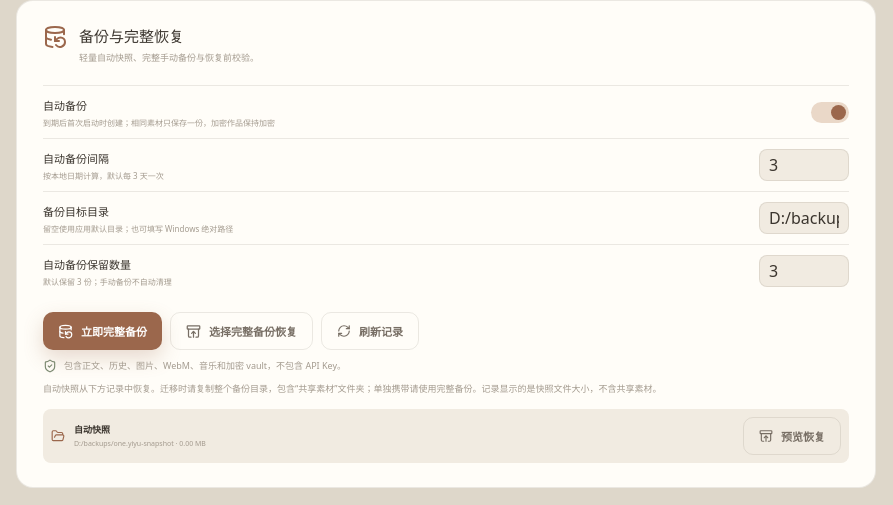
BackupSettingsSection › shows native missing-media errors without offering restore
Click the button "预览恢复". click: (792, 436)
box: [743,417,841,455]
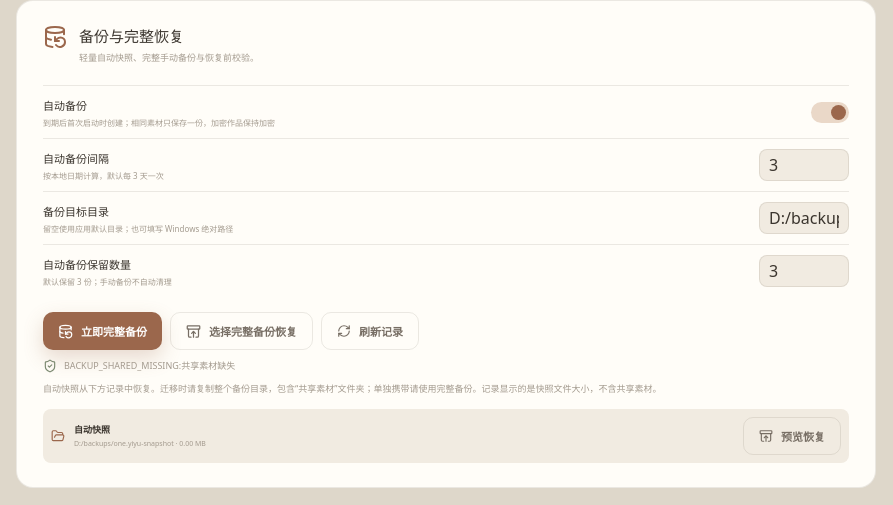
Expected: the text "BACKUP_SHARED_MISSING:共享素材缺失" is shown, [43,359,235,373]
